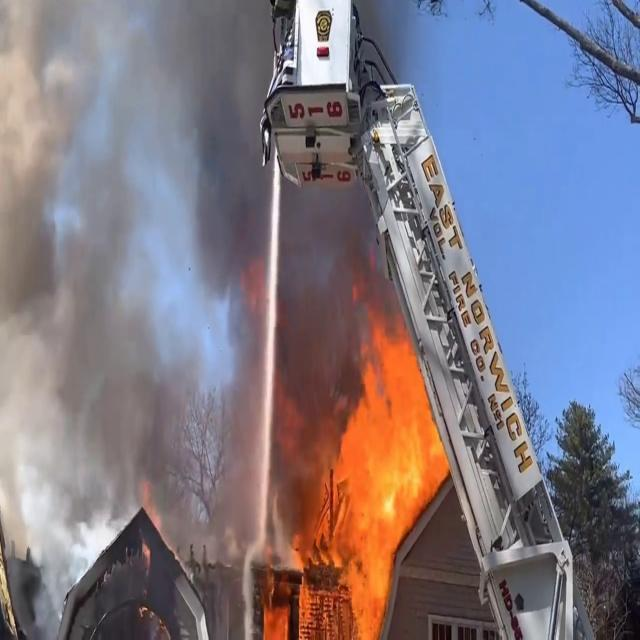Fire: (263, 319, 452, 636)
Smoke: (0, 0, 386, 549)
